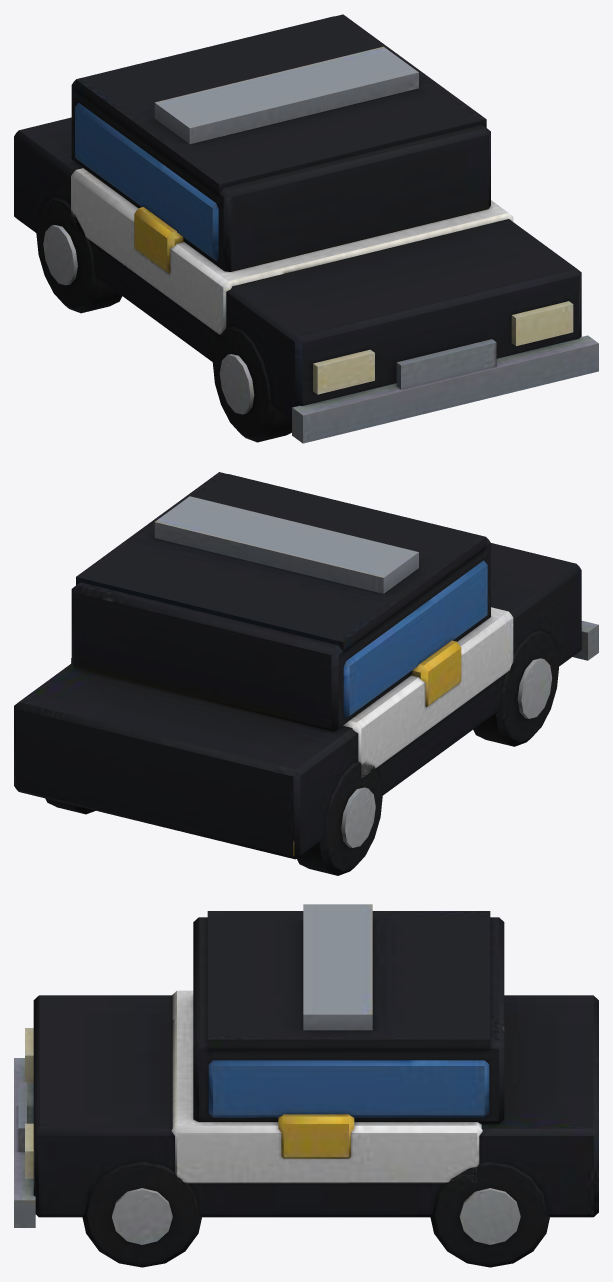
Rendered from patrulla.glb.
3 renders of one model, top to bottom at view 1: azimuth 30°, elevation 25°; view 2: azimuth 150°, elevation 25°; view 3: azimuth 270°, elevation 25°, orthographic.
Visible parts, largest first — view 1: patrulla; view 2: patrulla; view 3: patrulla.
Boxes of the visible parts, box(x1,y1,x2,y2) form: patrulla: box(14, 14, 598, 443); patrulla: box(14, 472, 598, 875); patrulla: box(14, 904, 598, 1267).
Bounding box in the file's own units: 1.58 × 1.22 × 2.69.
1 material, 1 textured.
